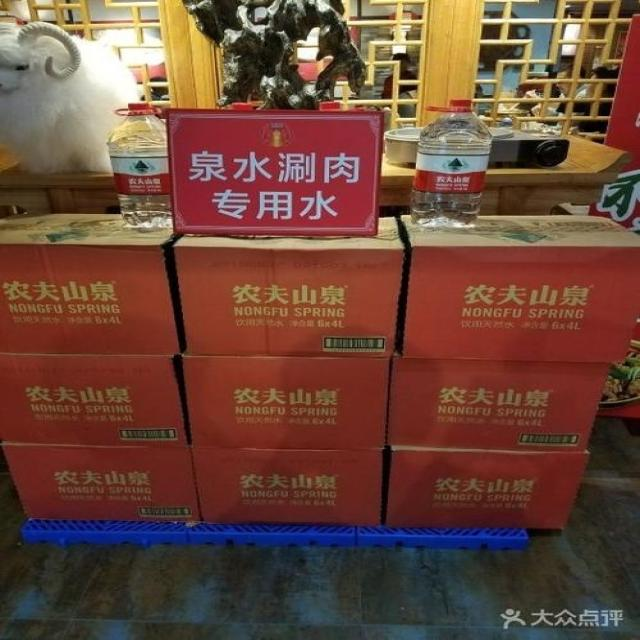box: (396, 214, 639, 362), (163, 215, 411, 358), (0, 209, 181, 355), (388, 358, 613, 451), (181, 356, 388, 448), (0, 355, 190, 445), (382, 449, 590, 529), (190, 445, 388, 527), (1, 443, 203, 520)
